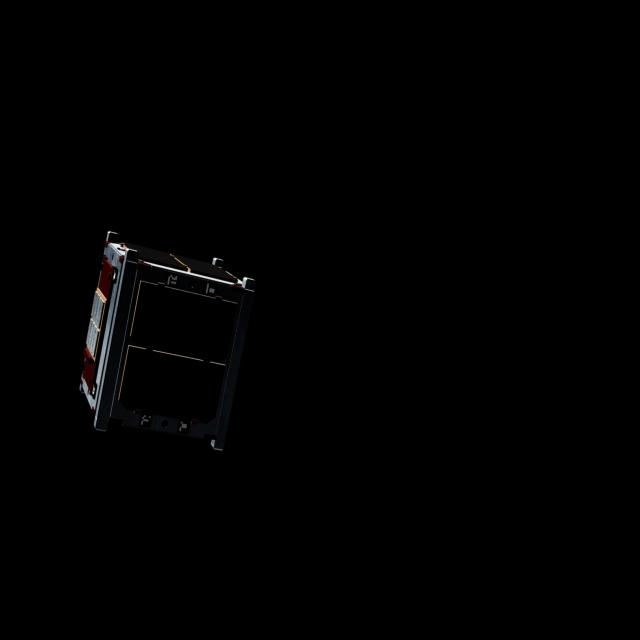medium_debris: (61, 220, 257, 458)
